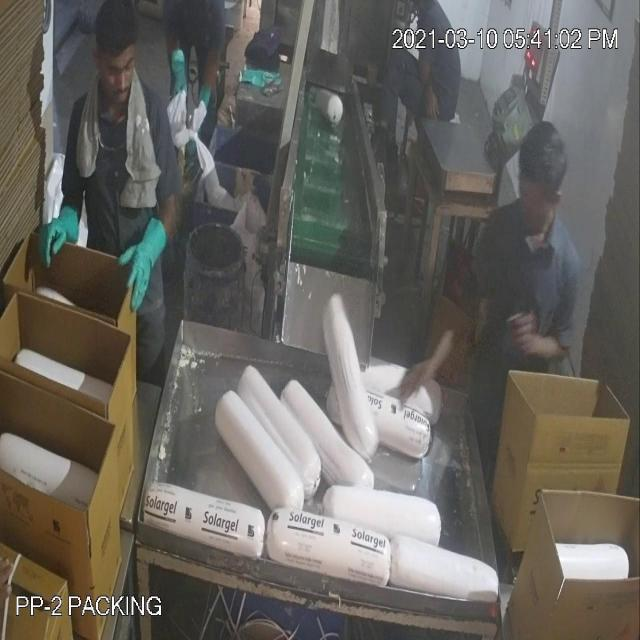No_Gloves: (58, 79, 538, 360)
